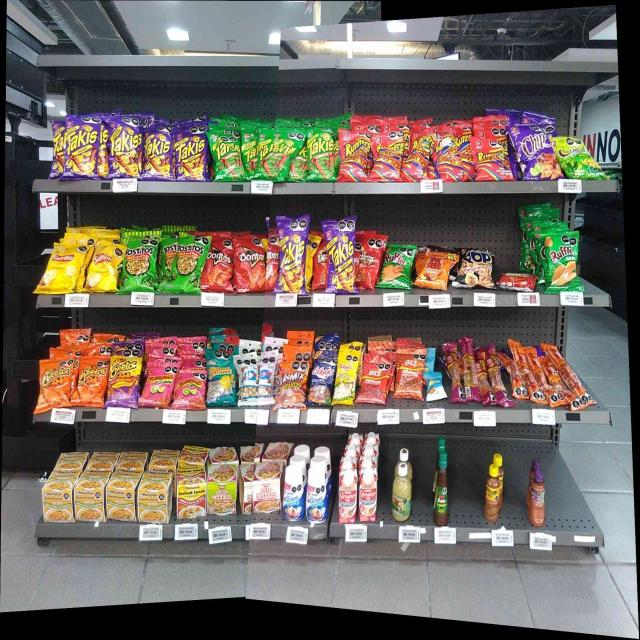bitzAlmendras: (426, 374, 444, 399)
bitzEnchilado90: (396, 352, 423, 398), (361, 364, 387, 404)
bitzEnchilado95: (524, 358, 592, 406), (508, 358, 523, 397)
bitzHabanero: (446, 344, 461, 402), (463, 339, 476, 399), (492, 353, 504, 405), (478, 352, 489, 404)
bokadosCacahuates: (311, 359, 332, 405)
botaneraChilito: (484, 465, 500, 520)
cheetosFlaminHot: (109, 353, 138, 407)
cheetosOriginal: (78, 356, 105, 405), (41, 360, 69, 406)
chipsFuego: (517, 124, 554, 178)
chipsPapatinas: (560, 137, 602, 178)
churrumais: (144, 362, 170, 405), (174, 370, 203, 408)
delPrimoSalsa: (393, 462, 411, 521)
doritosNacho: (236, 237, 265, 292), (206, 243, 232, 291)
hotNutsOriginal: (423, 248, 449, 288)
leoCacahuates: (238, 356, 258, 404), (259, 352, 273, 405)
leoMix: (278, 359, 306, 406)
maruchanPollo: (140, 472, 172, 524), (45, 470, 74, 524), (109, 471, 137, 521), (78, 472, 106, 520)
maruchanRes: (176, 468, 206, 516)
nestleCarnation: (338, 470, 356, 522), (359, 470, 376, 521)
nestleLechera: (284, 466, 305, 520), (307, 468, 327, 522)
nissinCamaron: (208, 465, 236, 514)
nissinRes: (254, 463, 282, 512)
popKarameladas: (461, 250, 493, 287)
rancheritos: (360, 238, 377, 289), (313, 242, 327, 290)
rufflesQueso: (547, 233, 578, 291), (385, 246, 410, 288)
runners: (475, 137, 505, 181), (341, 129, 366, 181), (372, 134, 399, 180), (407, 131, 430, 179), (438, 139, 462, 180)
sabritasOriginal: (48, 245, 83, 293), (92, 244, 118, 292)
salsaBufalo: (434, 452, 449, 524)
semillasCalabaza: (336, 355, 354, 405)
semillasGirasol: (208, 348, 233, 406)
tajinDulce: (528, 470, 546, 527)
takisFuego: (66, 114, 96, 180), (108, 116, 138, 180), (280, 218, 305, 294), (328, 221, 354, 293), (144, 127, 172, 179), (176, 130, 205, 180), (50, 122, 64, 178)
takisOriginal: (307, 131, 334, 181), (213, 133, 241, 181), (274, 132, 296, 182), (243, 132, 258, 179), (260, 130, 272, 180)
tostitos: (125, 236, 156, 292), (176, 238, 202, 292), (159, 235, 175, 274)
